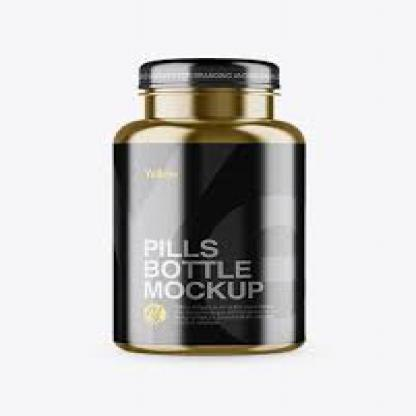jar: (114, 58, 305, 353)
